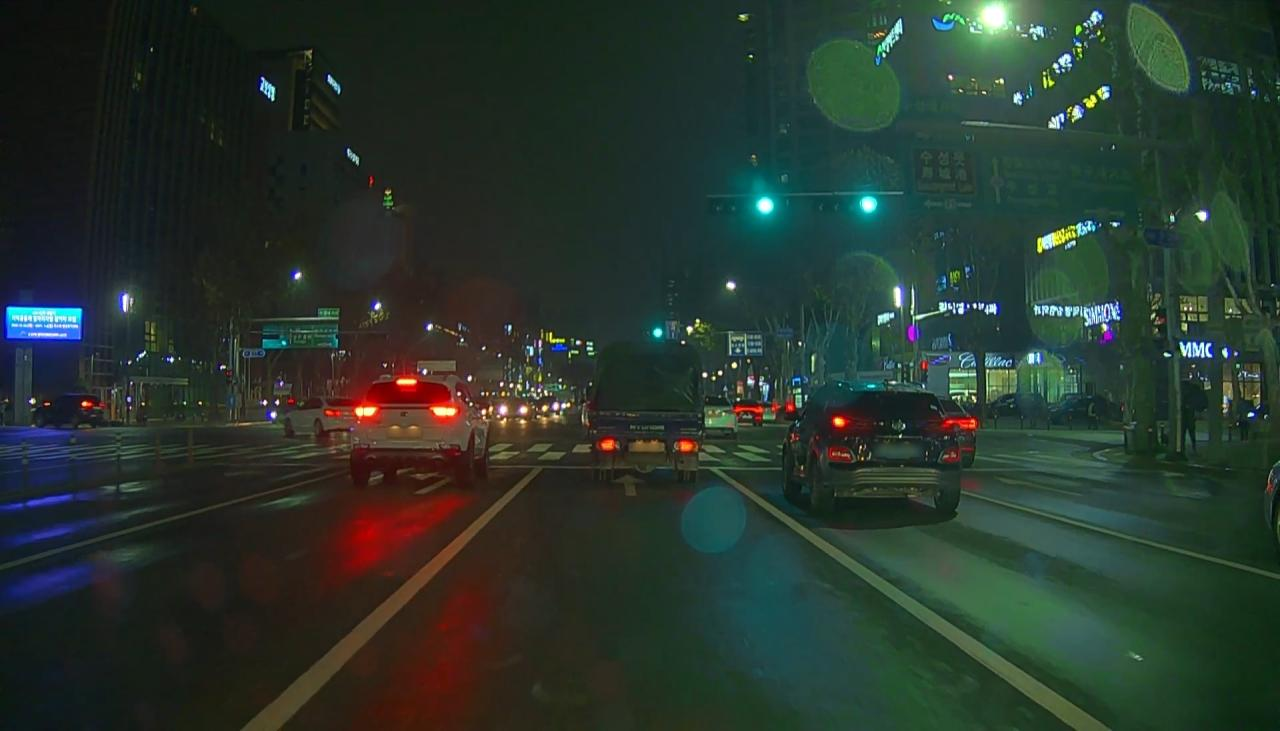Green Light: (858, 194, 878, 215), (755, 196, 775, 216)
